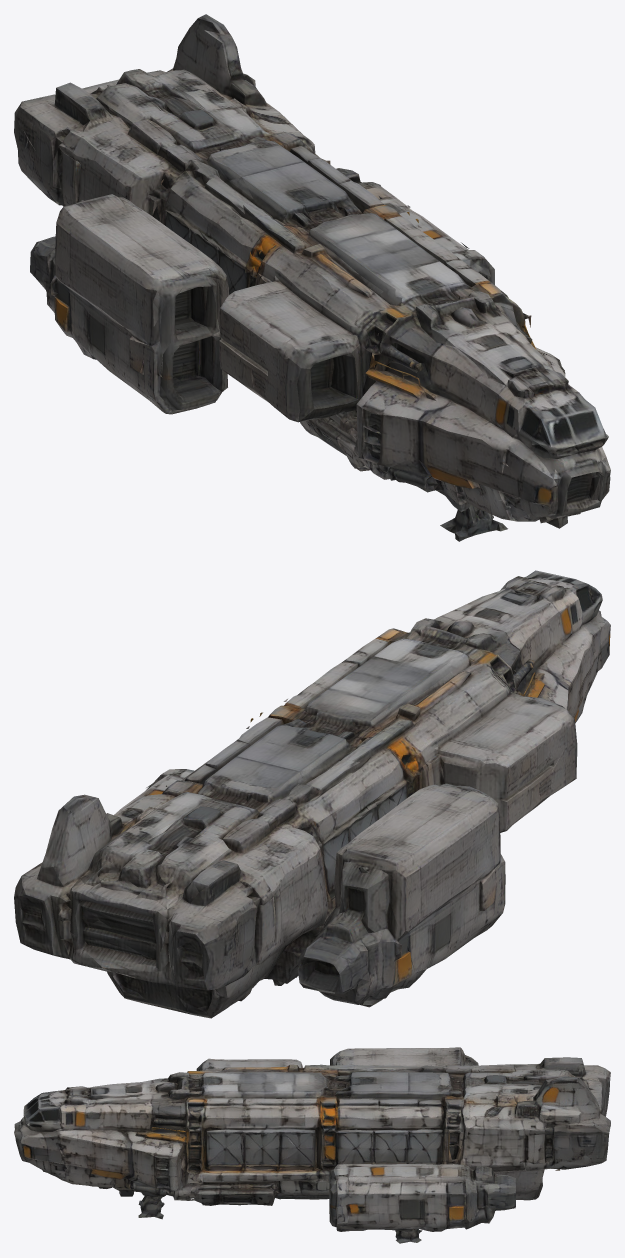
The model's file is BG-SHIP-lod0.glb.
3 renders of one model, top to bottom at view 1: azimuth 30°, elevation 25°; view 2: azimuth 150°, elevation 25°; view 3: azimuth 270°, elevation 25°, orthographic. The views are drawn at different scales.
Visible parts, largest first — view 1: Mesh; view 2: Mesh; view 3: Mesh.
Part boxes in pixels (x1=…): Mesh: x1=14, y1=14, x2=610, y2=541; Mesh: x1=14, y1=570, x2=610, y2=1018; Mesh: x1=14, y1=1047, x2=610, y2=1243.
Bounding box in the file's own units: 0.7944 × 0.5501 × 1.89.
1 material, 1 textured.
